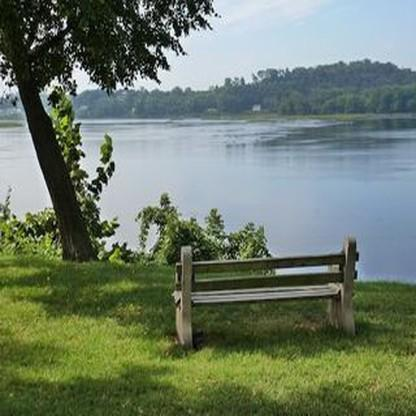obstacle: (157, 229, 373, 355)
